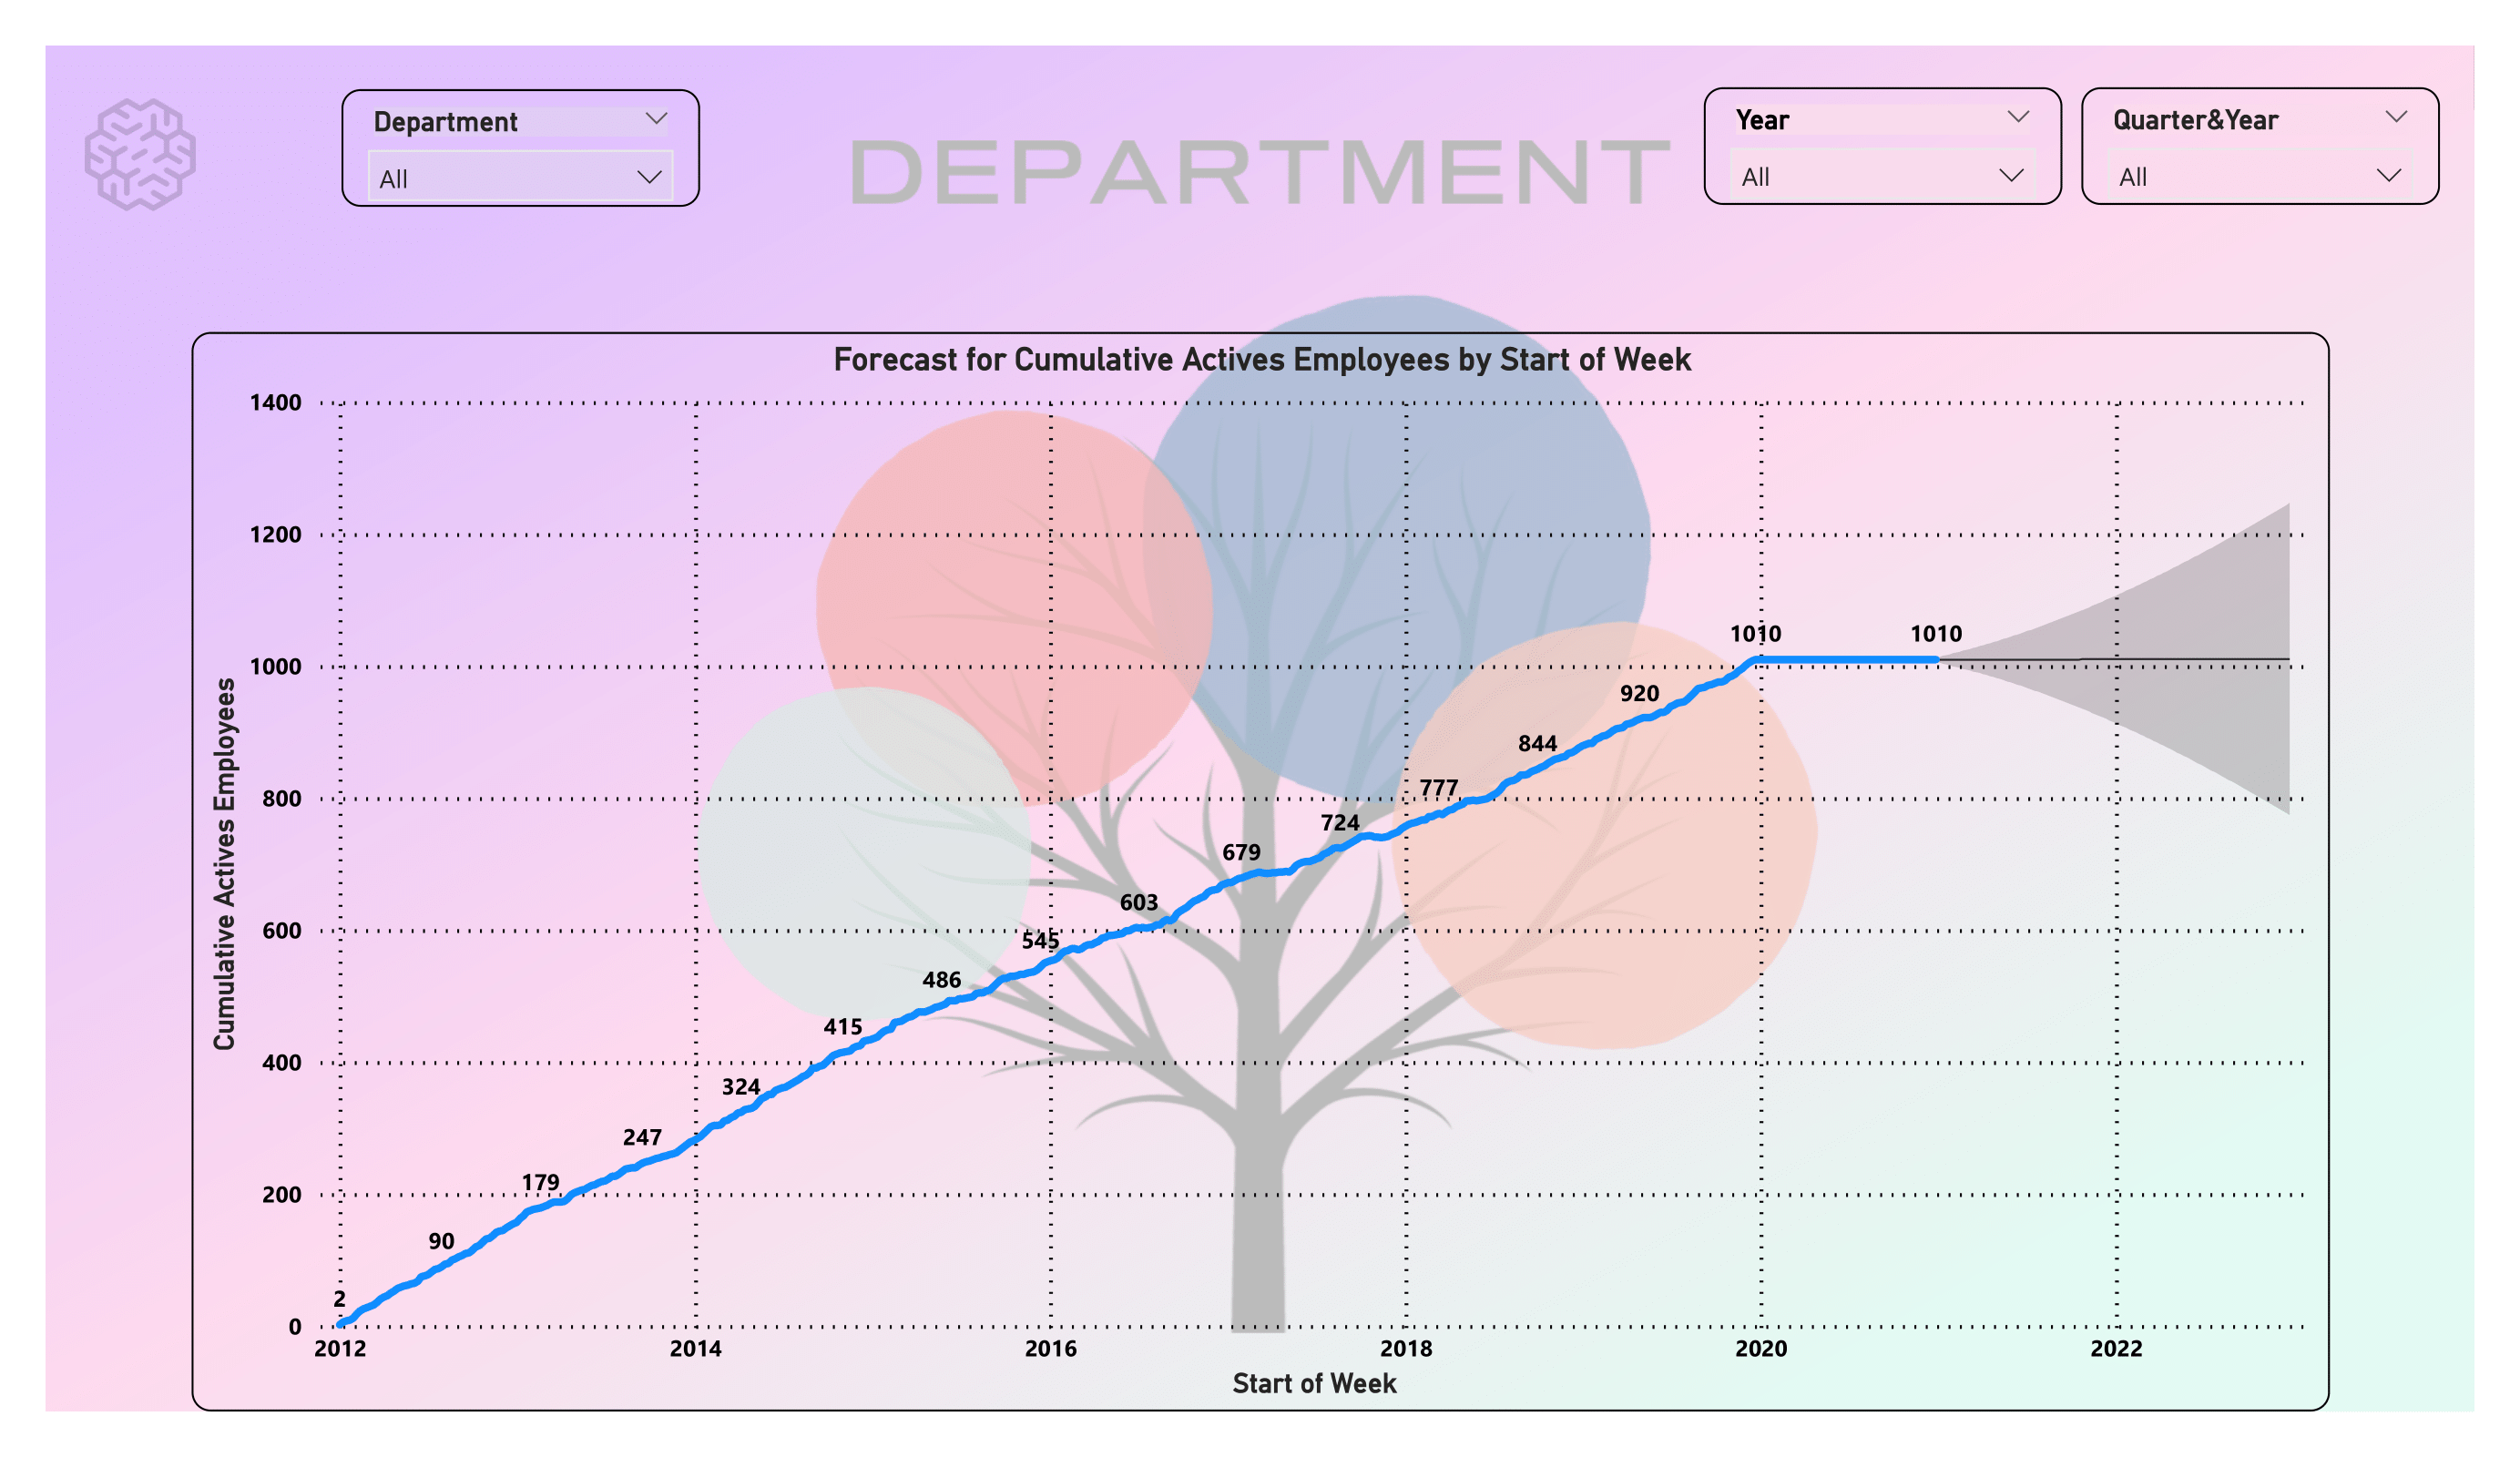

The page's visual inventory and layout, read from the dashboard file:
{"tool":"powerbi","page":{"name":"DEPARTMENT 3","canvas":[1280,720],"ordinal":3},"visuals":[{"type":"slicer","fields":{"Values":["Calendar.Year"]},"box":[873.8,21.6,189.1,62.7],"z":0},{"type":"slicer","fields":{"Values":["Calendar.QuarterInCalendar"]},"box":[1073.2,21.6,189.1,62.7],"z":1000},{"type":"slicer","fields":{"Values":["Department.Name"]},"box":[156.1,22.8,189.1,62.7],"z":2000},{"type":"image","box":[15.4,22.7,69,69],"z":3000},{"type":"lineChart","title":"Forecast for Cumulative Actives Employees by Start of Week","fields":{"Category":["Calendar.Start of Week"],"Y":["1.DepartmentKeyMeasures.Cumulative Actives Employees"]},"box":[77.2,150.8,1126.8,569.4],"z":4000}]}

Visuals, with their boxes on the page's 1280x720 design canvas (x1, y1, x2, y2). These are canvas units, not pixel positions in the 2520x1457 screenshot, which may show the page scaled, cropped or inside an application window:
slicer - Calendar.Year: Rect(874, 22, 1063, 84)
slicer - Calendar.QuarterInCalendar: Rect(1073, 22, 1262, 84)
slicer - Department.Name: Rect(156, 23, 345, 86)
image: Rect(15, 23, 84, 92)
"Forecast for Cumulative Actives Employees by Start of Week" lineChart: Rect(77, 151, 1204, 720)
